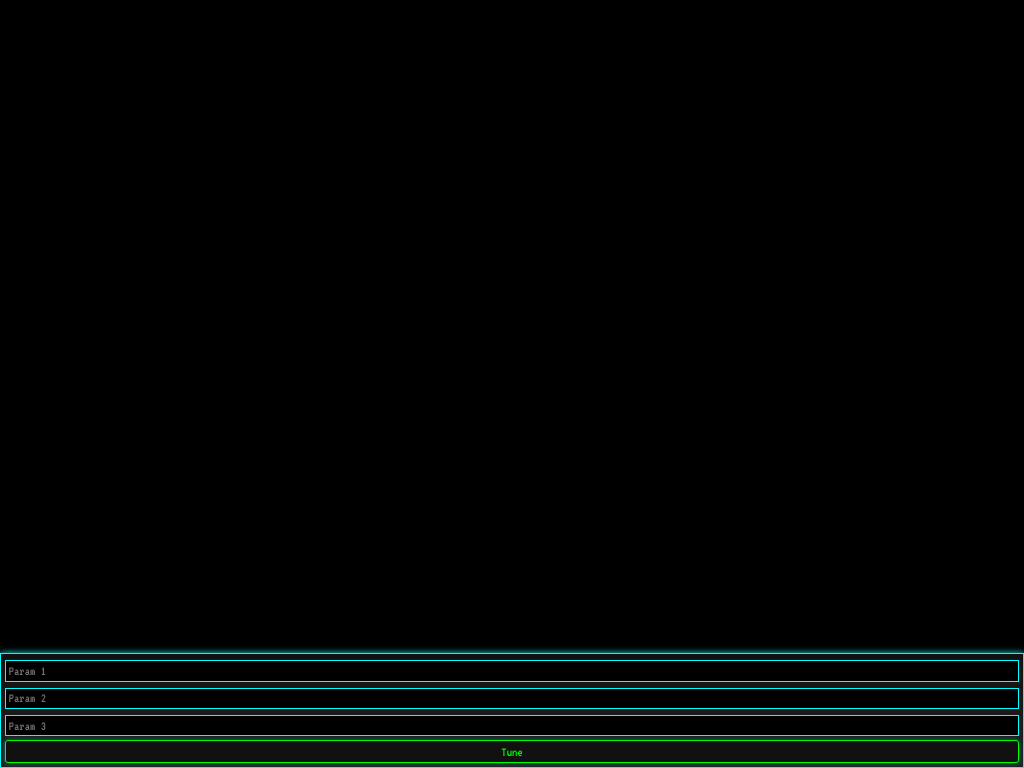
Test: BurnControls › shows info when tuned and hides on abort
What coordinates should you click on to do the following:
click the button "Tune"
I would click on:
 (512, 752)
Its box is 5,740 -> 1019,763.
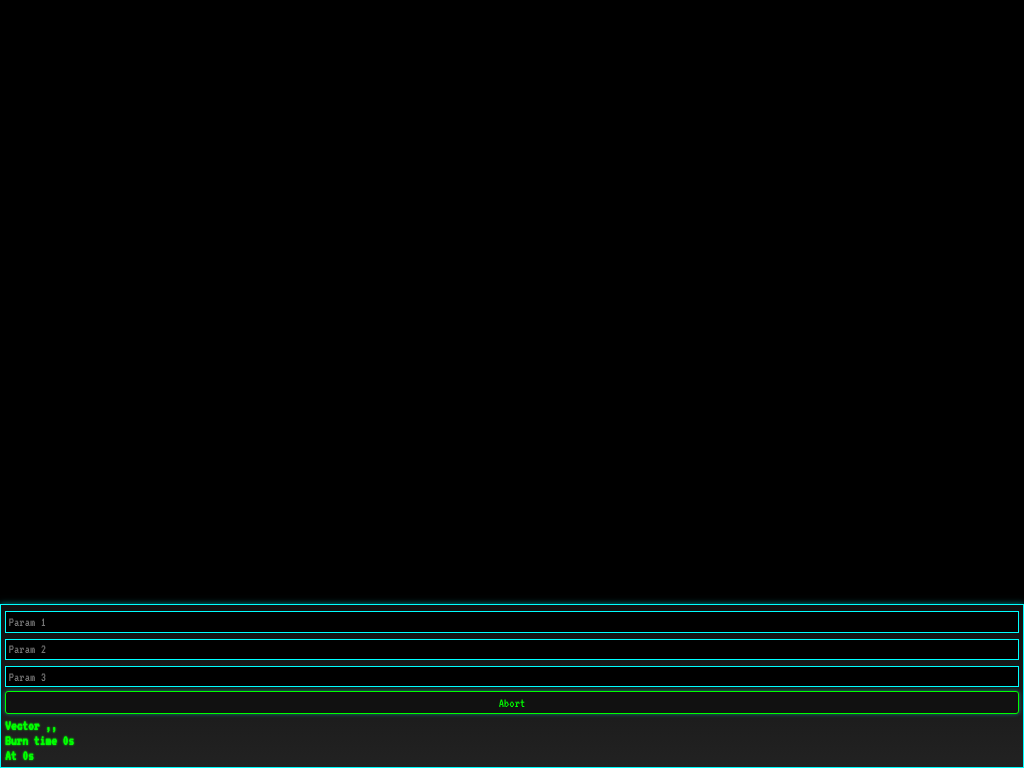
Check: the element with class "burn-info" is shown, box 5,718 -> 74,763
What coordinates should you click on to do the following:
click the button "Abort"
I would click on:
 (512, 703)
Its box is 5,691 -> 1019,714.
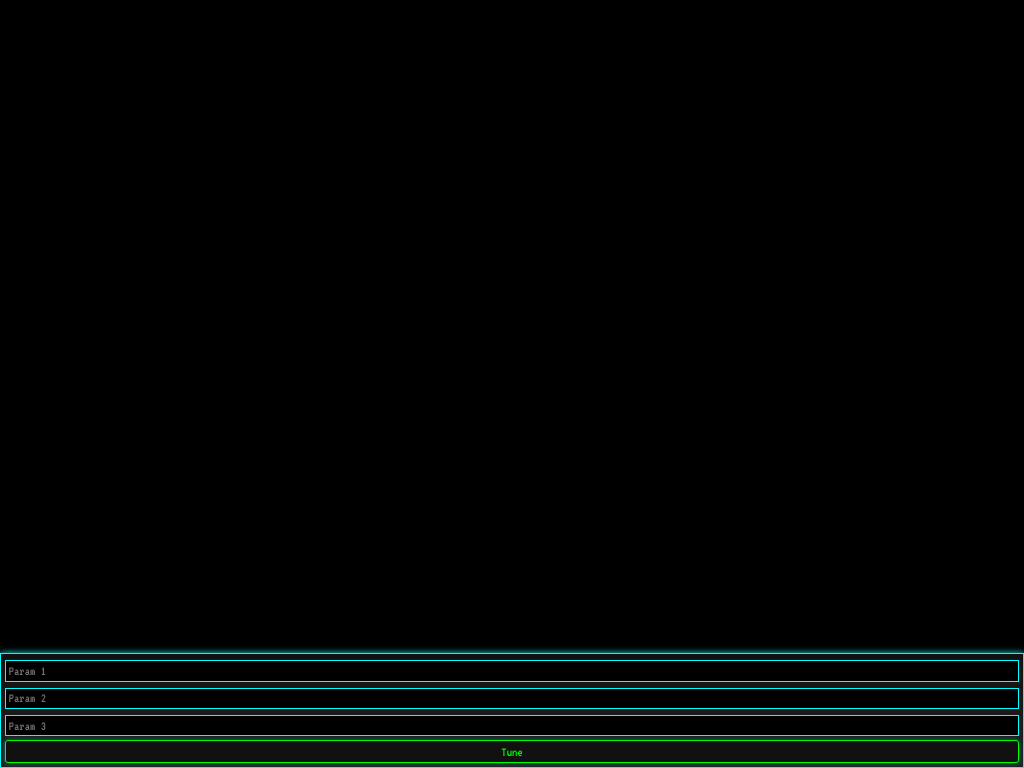
Check: the element with class "burn-info" is gone
